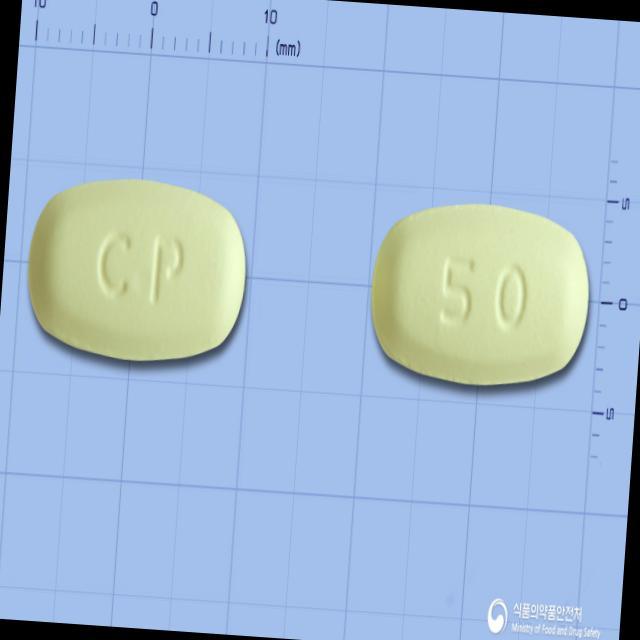Claroad: (364, 190, 599, 400), (21, 168, 254, 370)
